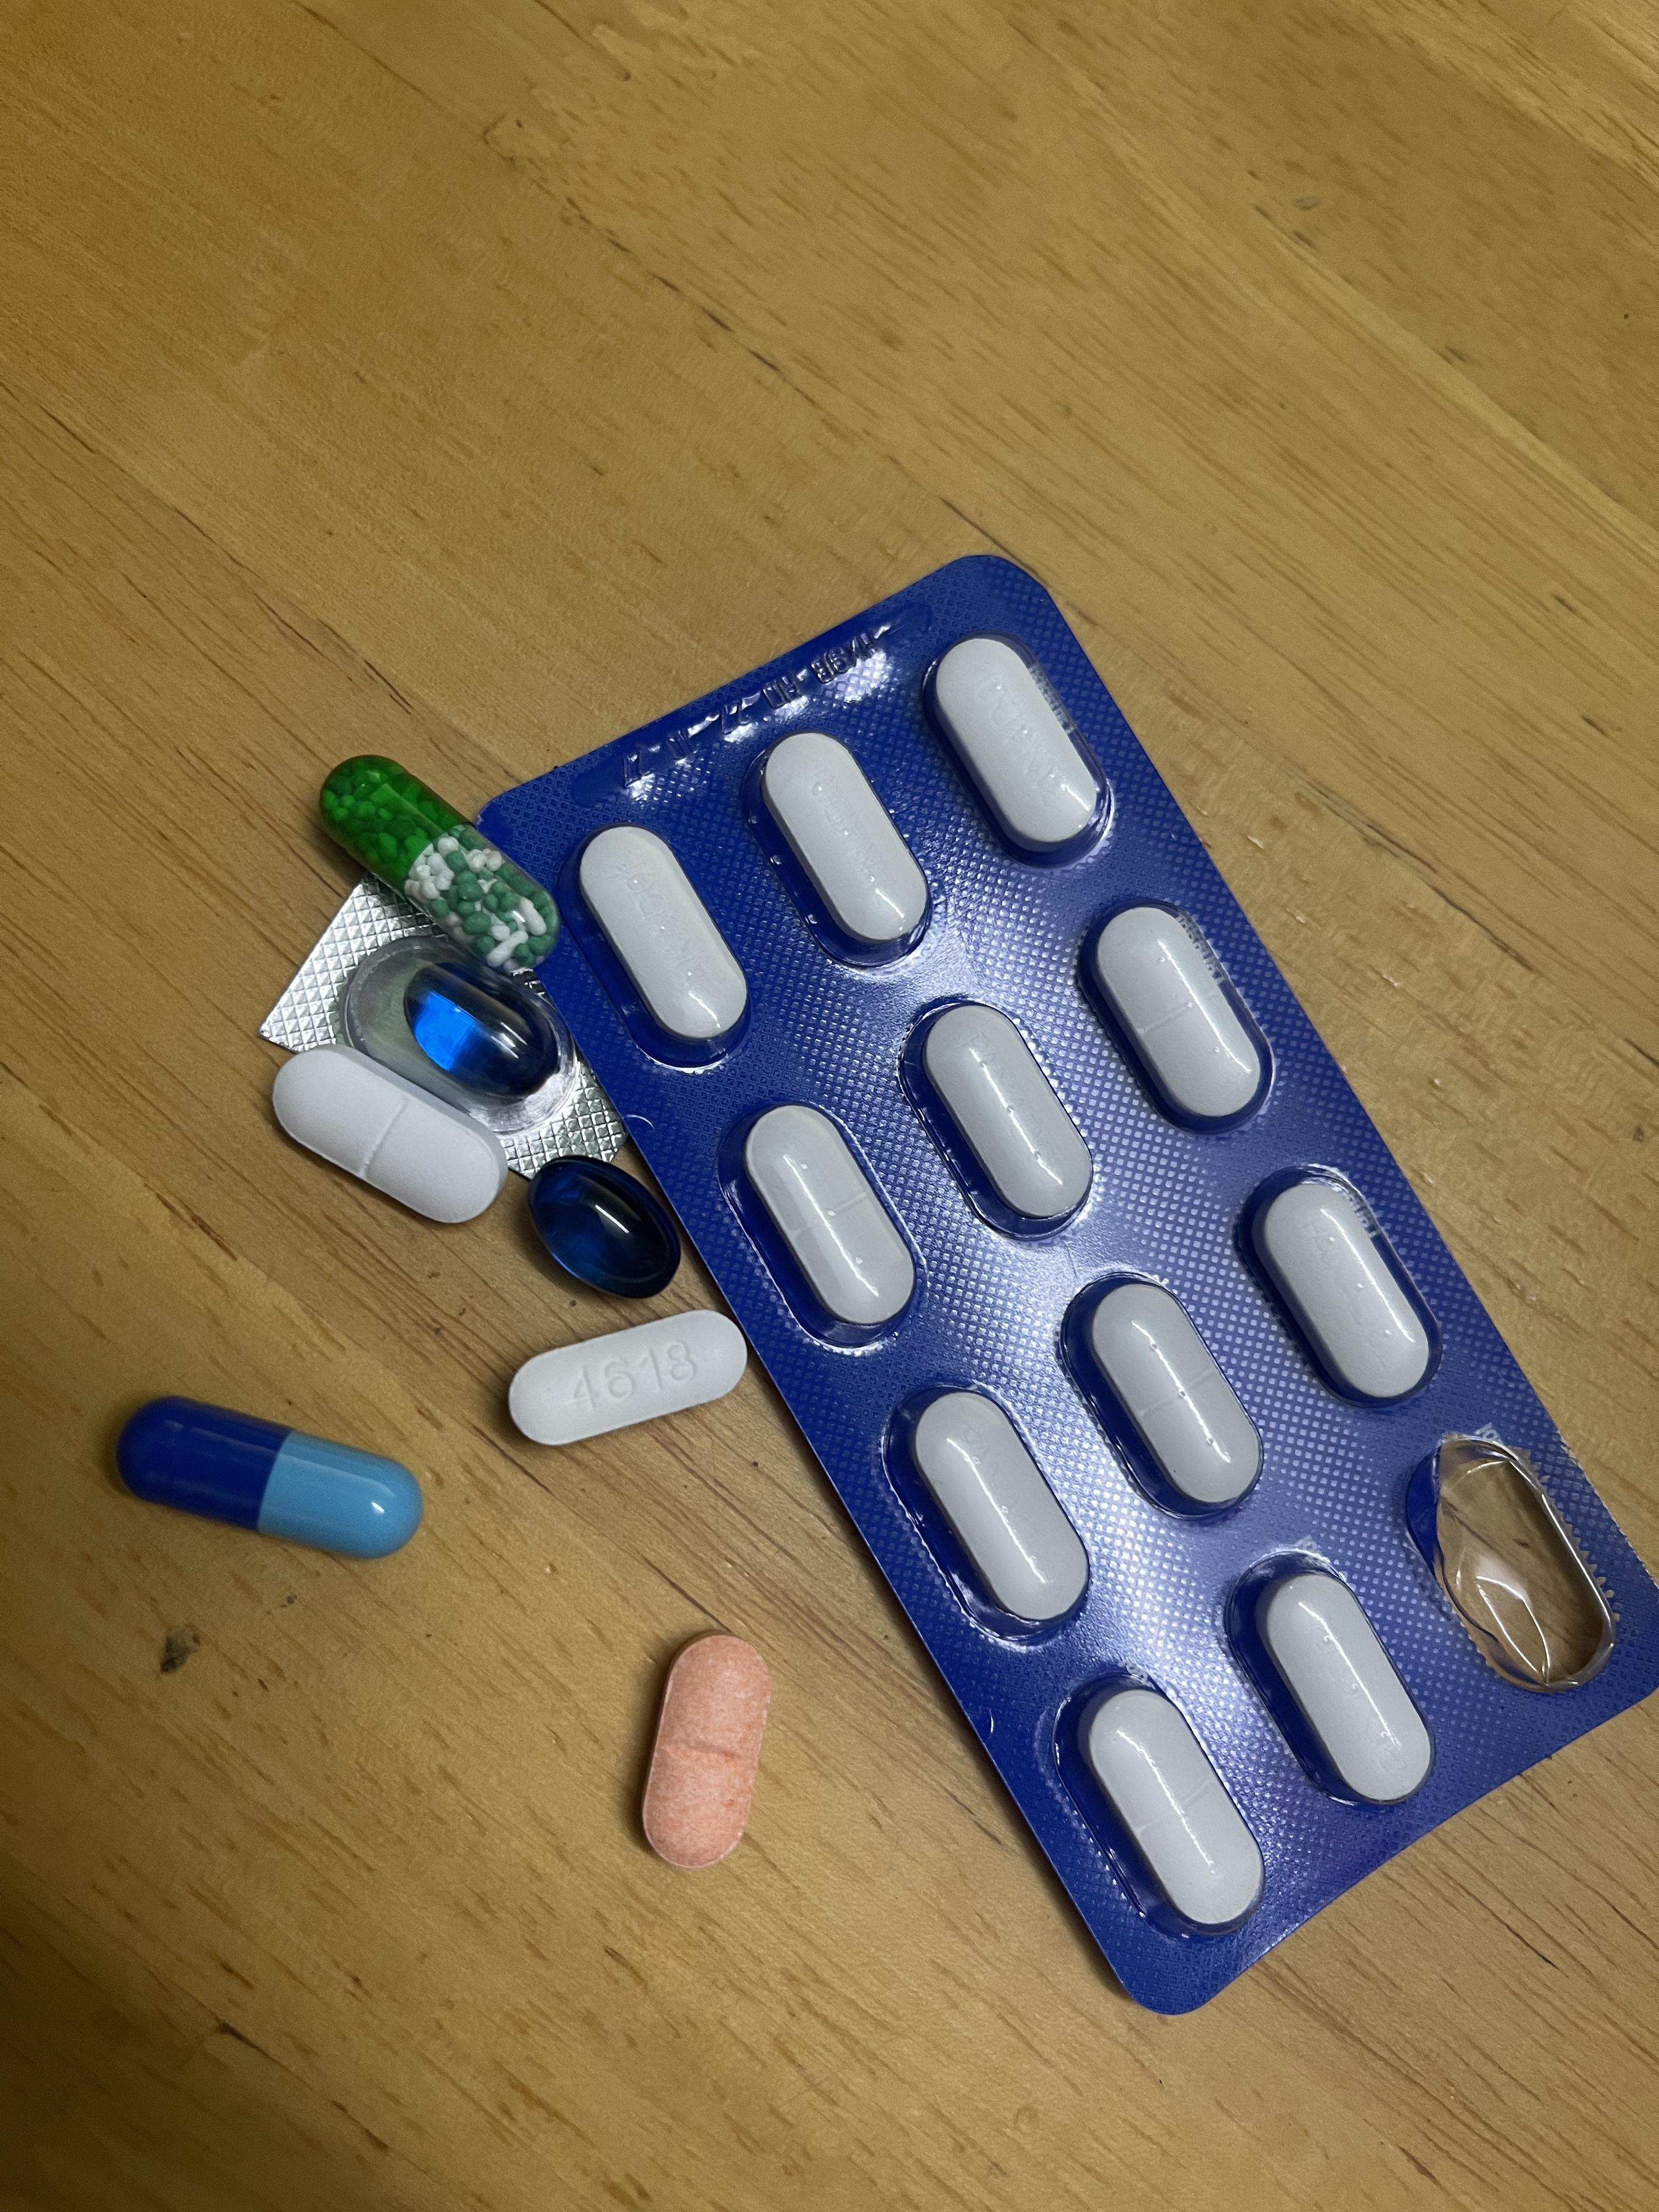Lincomyxin_500mg: (530, 1157, 680, 1298), (408, 970, 552, 1094)
Loratadine_10mg: (640, 1632, 770, 1864)
Paracetamol_350mg: (1066, 1674, 1265, 1939), (1063, 1270, 1263, 1521), (901, 1385, 1091, 1634), (1249, 1571, 1432, 1810), (753, 725, 934, 965), (270, 1043, 511, 1223), (925, 632, 1108, 866), (572, 820, 753, 1055), (1255, 1177, 1438, 1406), (920, 1001, 1094, 1230), (742, 1104, 913, 1334), (1108, 918, 1262, 1116)
Paracetamol_500mg: (511, 1315, 742, 1447)
Paracetamol_650mg: (324, 759, 554, 963)
pill: (120, 1400, 415, 1557)
